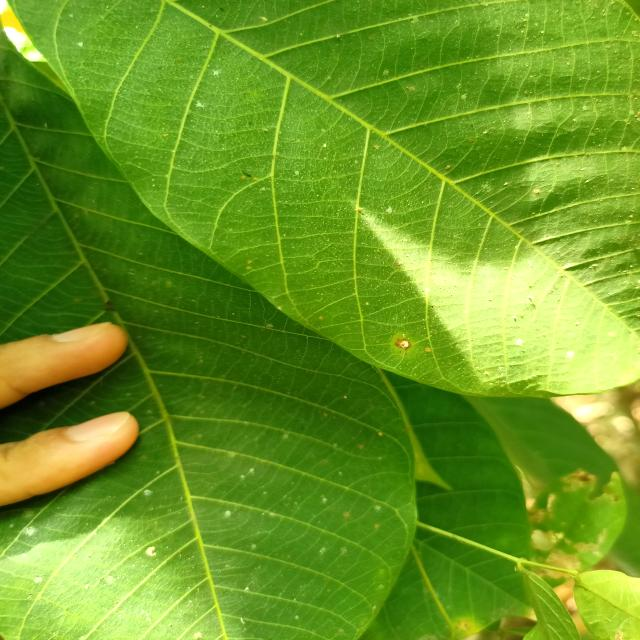Colletotrichum: (398, 339, 411, 350)
